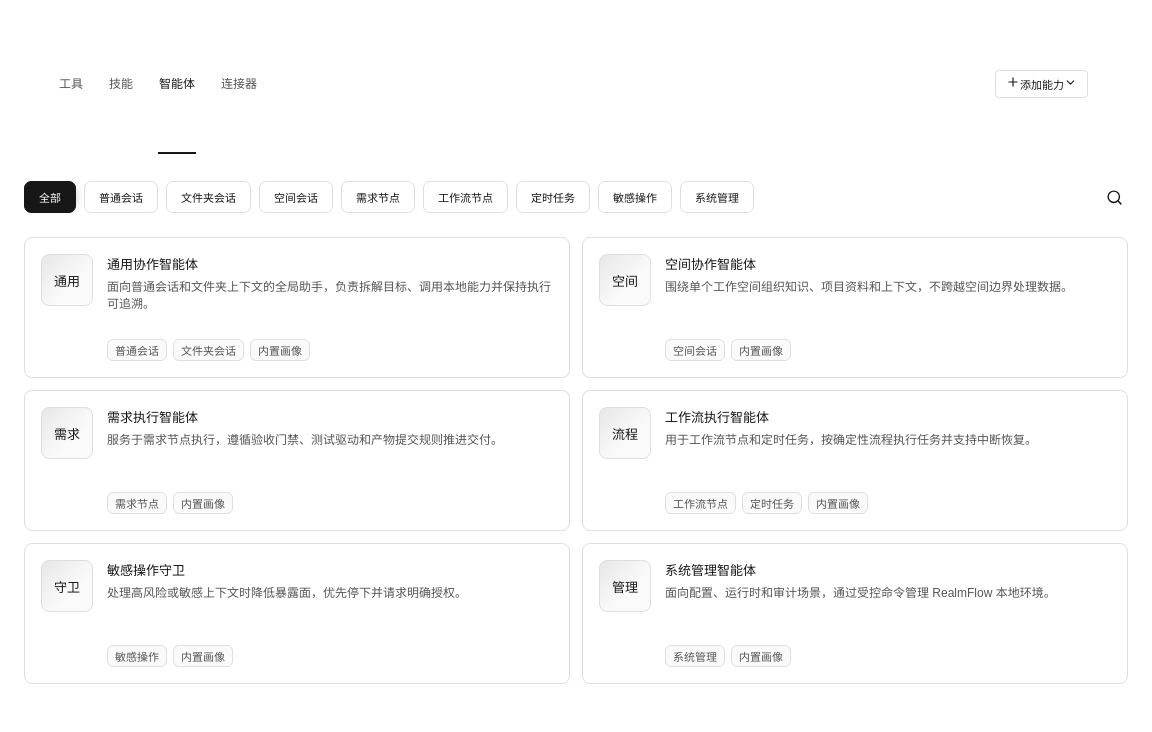
CapabilitiesPage › shows agent portraits with scene filters and expandable search
Check: the text "通用协作智能体" is shown, box [107,257,198,272]
Check: the button "需求节点" is shown, box [341,181,415,213]
Click the button named "搜索" at (1114, 197), box [1100,183,1128,211]
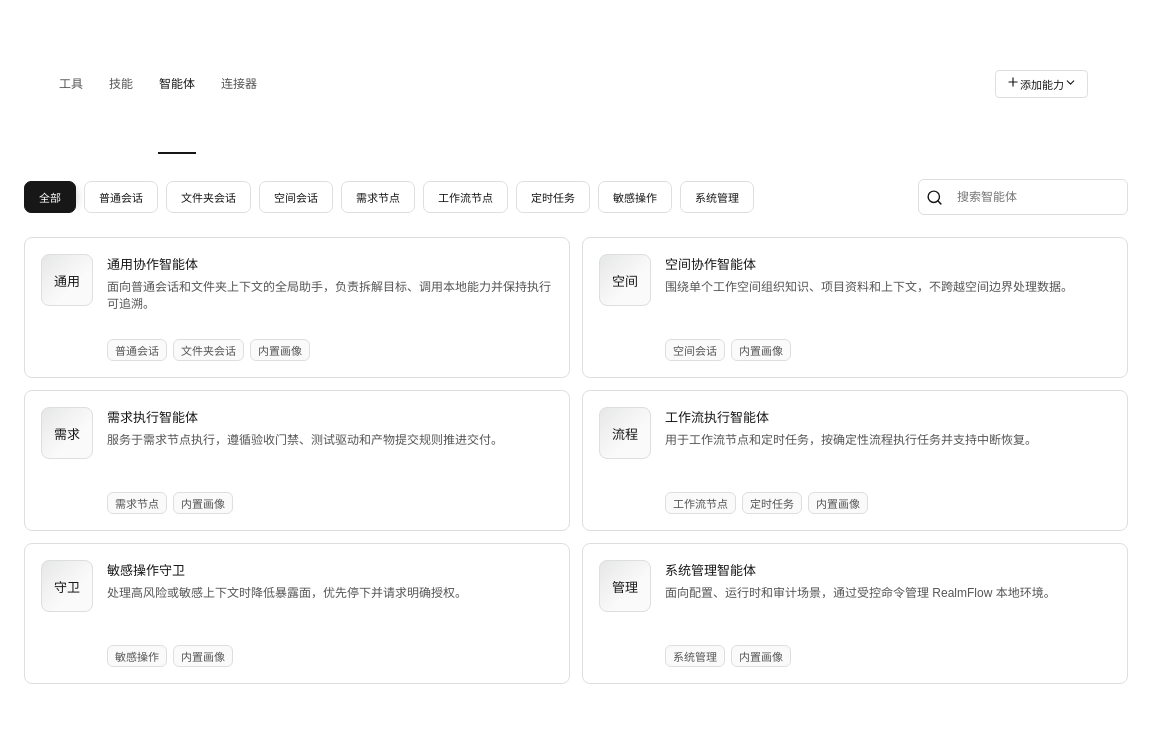
Check: the element named "搜索智能体" has attribute data-expanded="true", box [918,179,1128,215]
Type "需求" into the search field labelled "搜索智能体" at (1037, 197), box [948,180,1126,214]
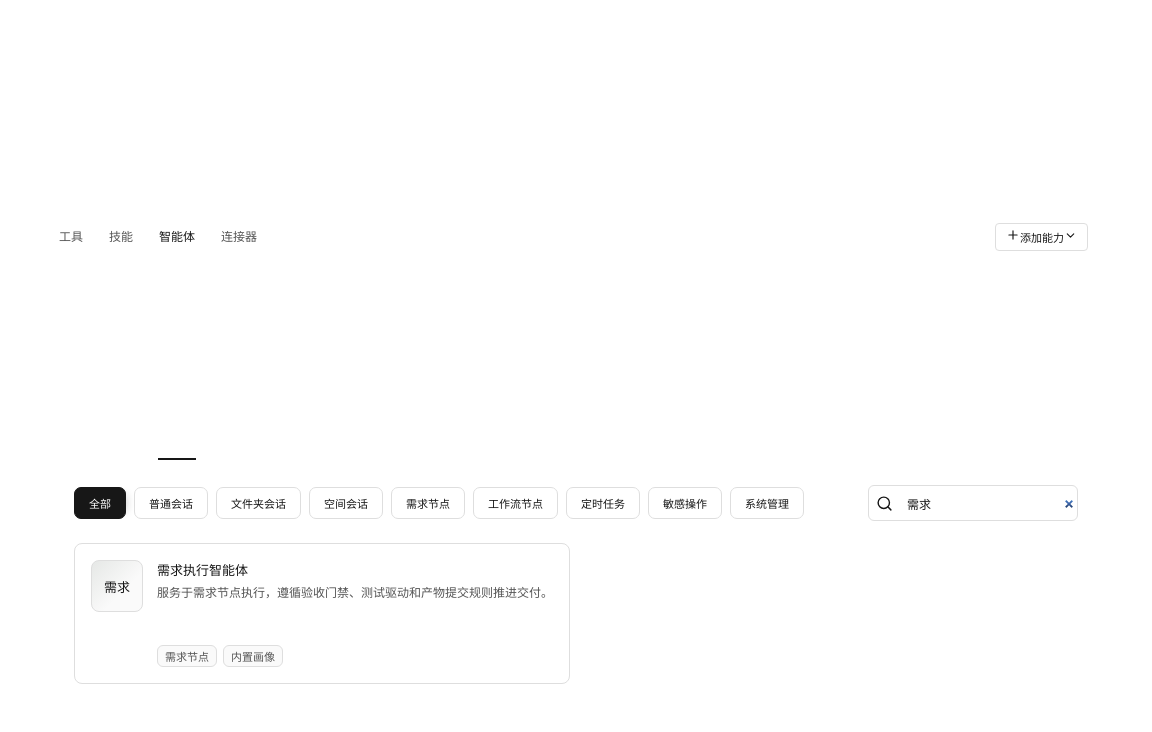
Check: the text "需求执行智能体" is shown, box [157,563,248,578]
Check: the button "空间协作智能体" is gone
Clear the search field named "搜索智能体" at (987, 503), box [898,486,1076,520]
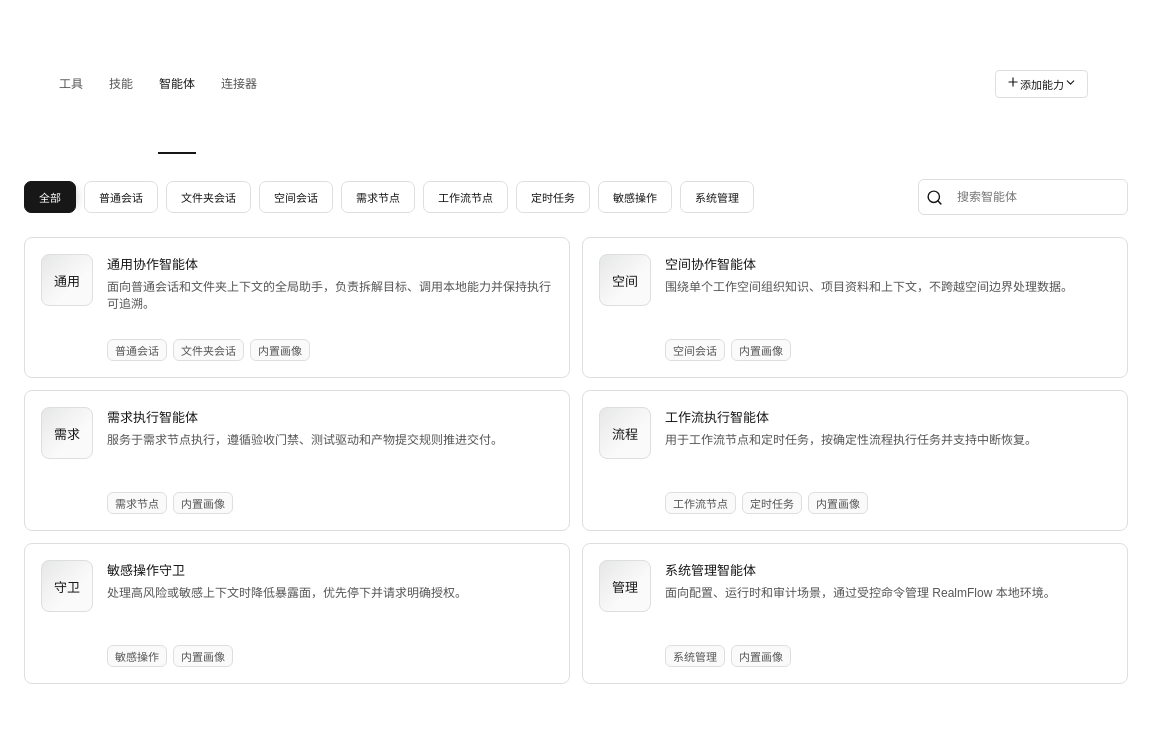
Click the button "定时任务" at (553, 197), box [516,181,590,213]
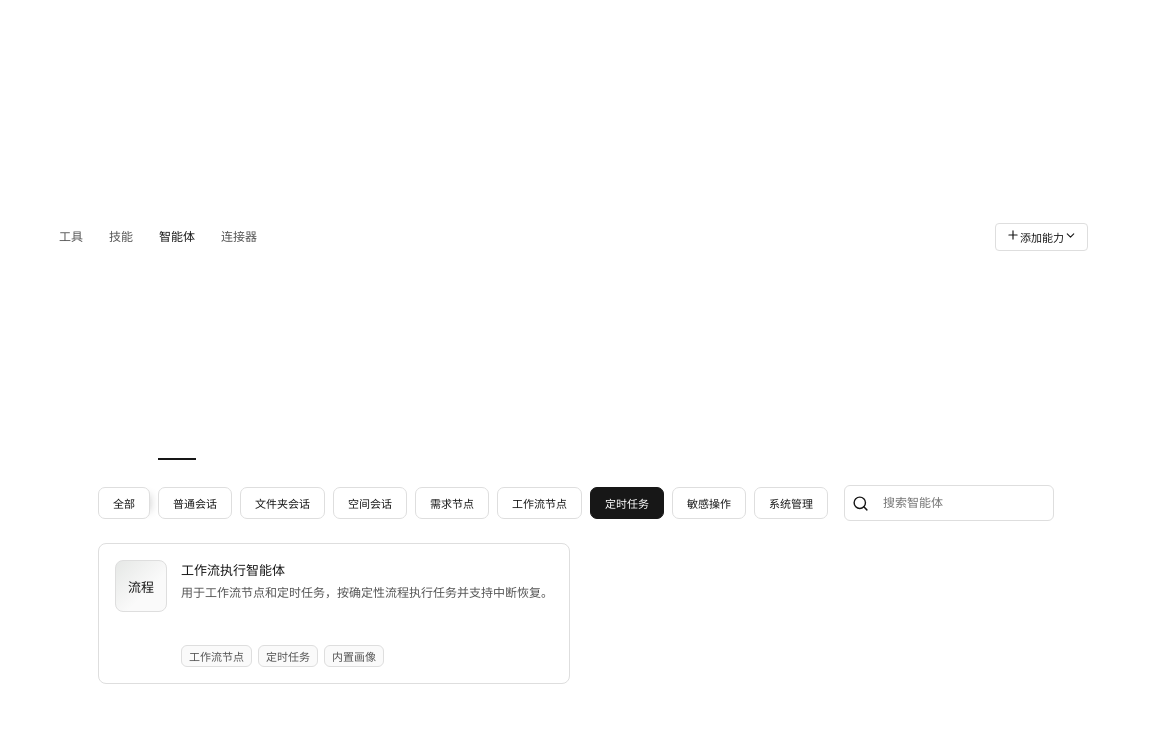
Check: the text "工作流执行智能体" is shown, box [181,563,285,578]
Check: the button "需求执行智能体" is gone
